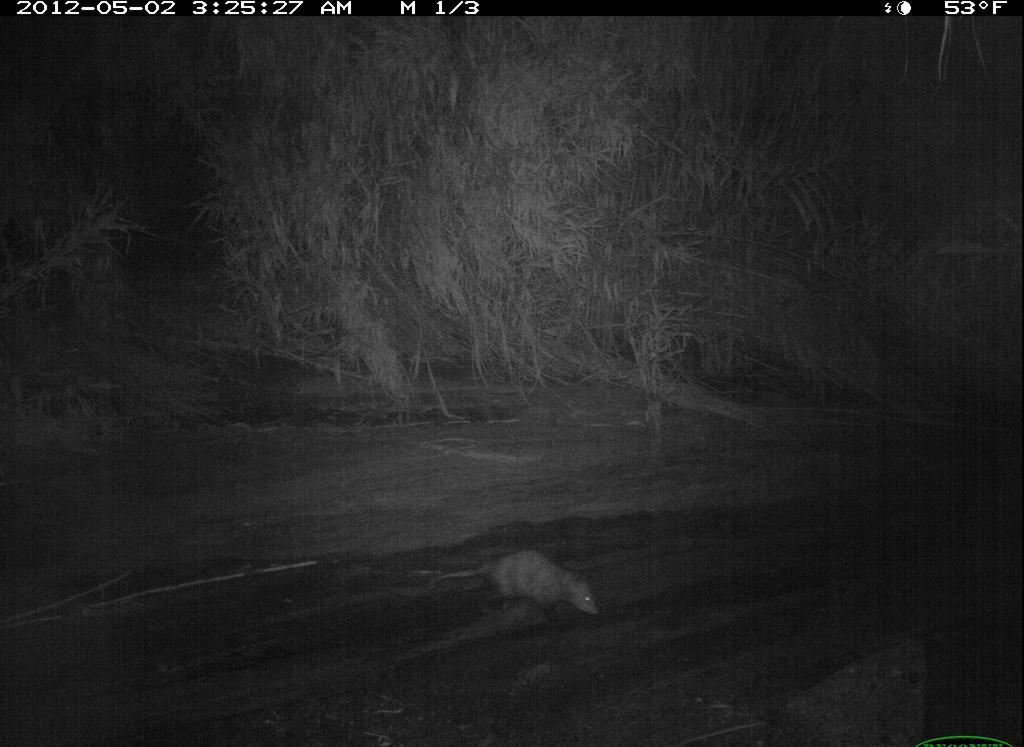opossum: (414, 548, 605, 625)
